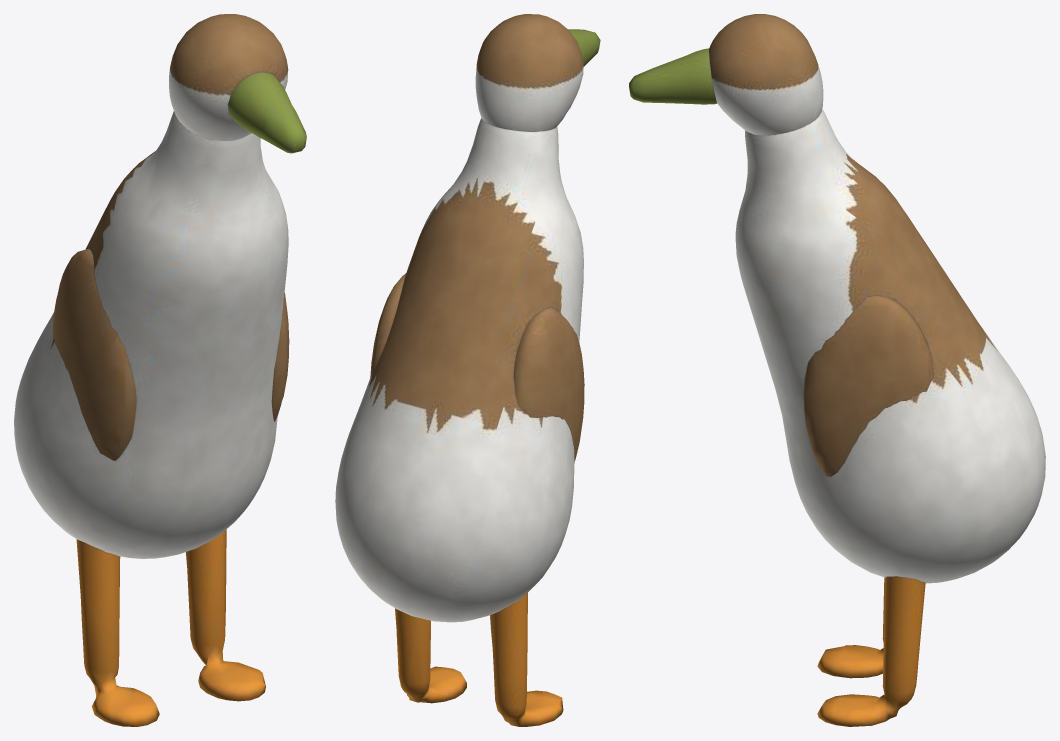
The model's file is animal_indian_runner.glb.
3 views of the same model, side by side, from view 1: azimuth 30°, elevation 25°; view 2: azimuth 150°, elevation 25°; view 3: azimuth 270°, elevation 25° (orthographic). The views are drawn at different scales.
Visible parts, largest first — view 1: animal_indian_runner, head, leg0, leg1; view 2: animal_indian_runner, head, leg0, leg1; view 3: animal_indian_runner, head, leg1, leg0.
Boxes of the visible parts, x1,y1,x2,y2 form: animal_indian_runner: (14,111,289,558); head: (169,14,306,153); leg0: (76,539,159,726); leg1: (185,529,265,701); animal_indian_runner: (335,118,584,622); head: (475,14,600,131); leg0: (490,592,563,726); leg1: (395,608,466,703); animal_indian_runner: (735,109,1045,583); head: (629,14,823,135); leg1: (817,576,925,726); leg0: (817,577,885,678).
Size of the model in its own units: 0.1202 by 0.3675 by 0.2061.
Materials: 1 (1 with a texture image).
